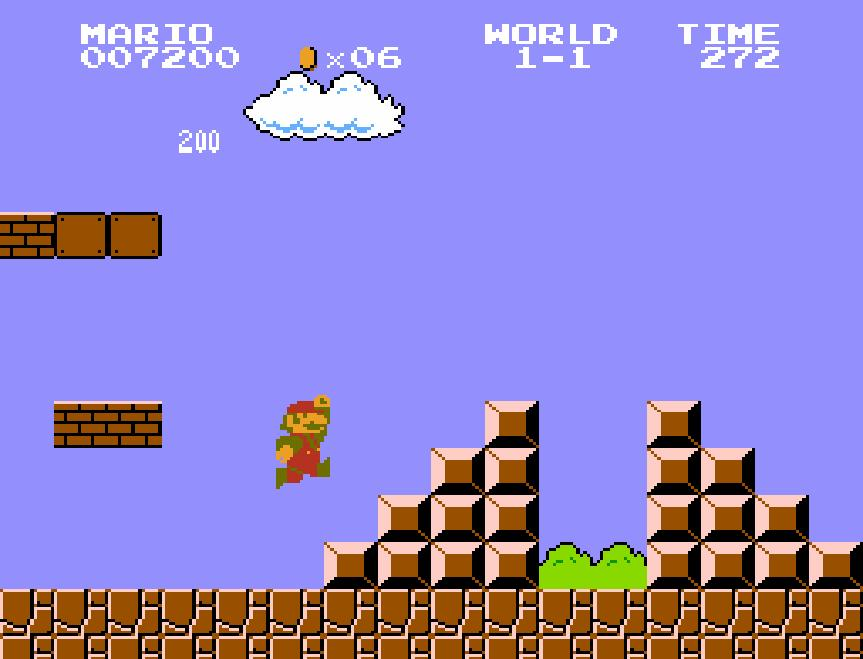big_mario: (274, 393, 332, 491)
